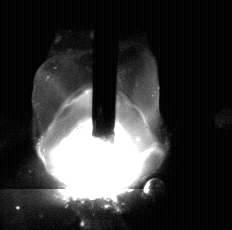arame: (93, 0, 117, 138)
poca: (33, 0, 166, 230)
